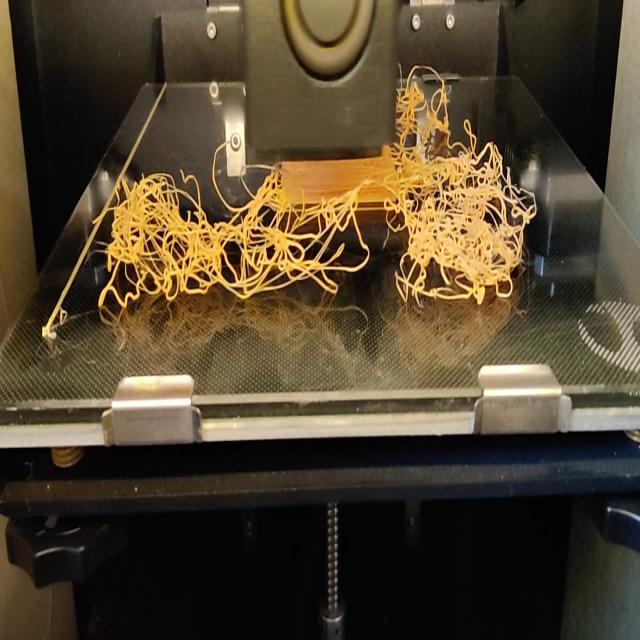spaghetti: (86, 146, 538, 324), (397, 52, 478, 145)
